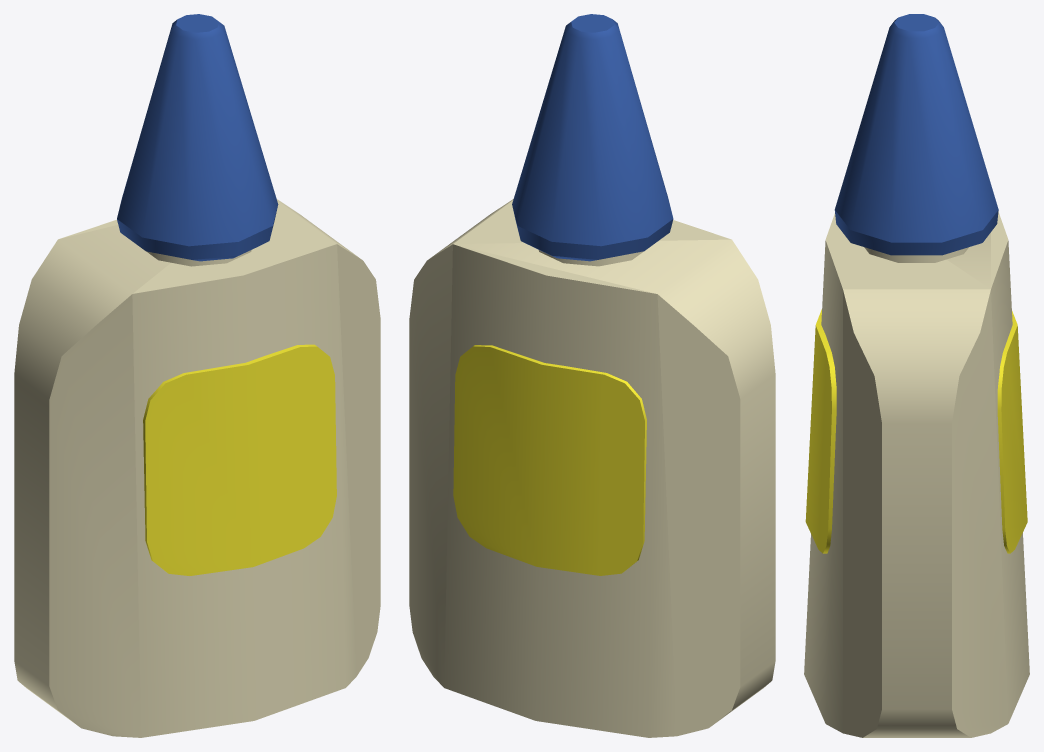
Rendered from Glue.fbx.
3 views of the same model, side by side, from view 1: azimuth 30°, elevation 25°; view 2: azimuth 150°, elevation 25°; view 3: azimuth 270°, elevation 25° (orthographic).
Parts seen in each view (by area): view 1: Glue; view 2: Glue; view 3: Glue.
Boxes of the visible parts, bbox=[...] form: Glue: bbox=[14, 14, 380, 737]; Glue: bbox=[409, 14, 775, 737]; Glue: bbox=[804, 14, 1029, 737].
Bounding box in the file's own units: 190 × 360 × 113.
